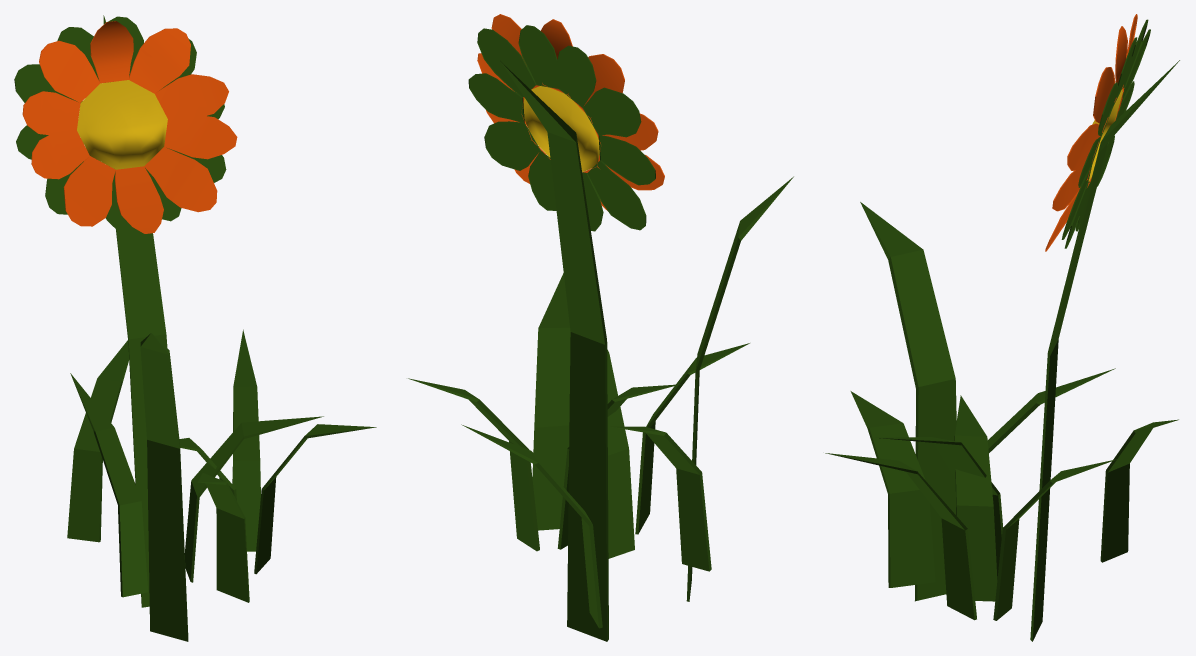
Rendered from flower4_long.FBX.
The picture shows the model from 3 angles, left to right: view 1: azimuth 30°, elevation 25°; view 2: azimuth 150°, elevation 25°; view 3: azimuth 270°, elevation 25°; orthographic projection. The views are drawn at different scales.
Visible parts, largest first — view 1: flowerOrangeLong; view 2: flowerOrangeLong; view 3: flowerOrangeLong.
Part boxes in pixels (box(x1,y1,x2,y2)): flowerOrangeLong: box(14, 15, 376, 641); flowerOrangeLong: box(408, 14, 793, 641); flowerOrangeLong: box(825, 14, 1179, 641).
Size of the model in its own units: 18.99 by 45.93 by 24.99.
